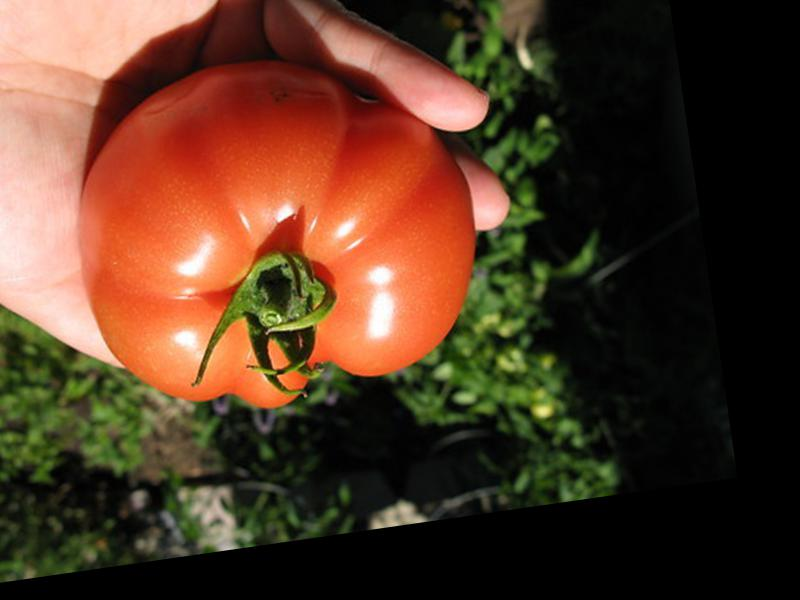Tomato: (60, 38, 497, 430)
